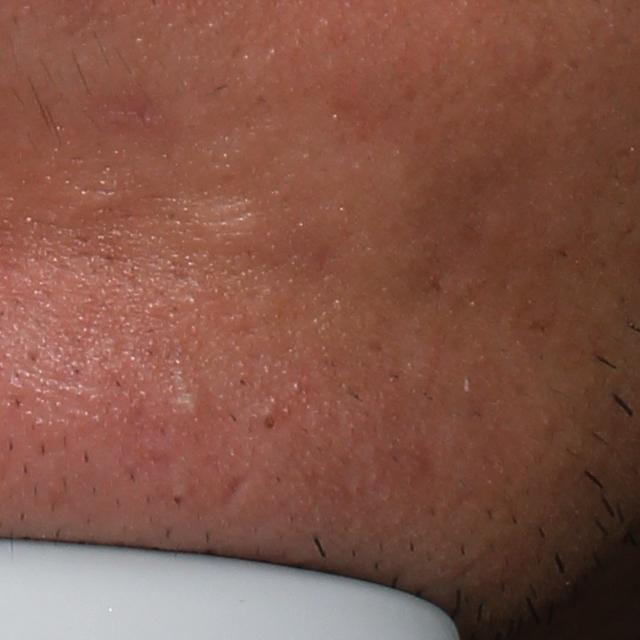atrophic_scar: (150, 190, 251, 249), (86, 90, 166, 130), (214, 472, 250, 516)
